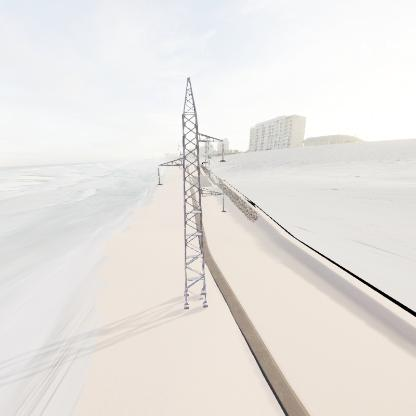tower: (151, 82, 232, 317)
